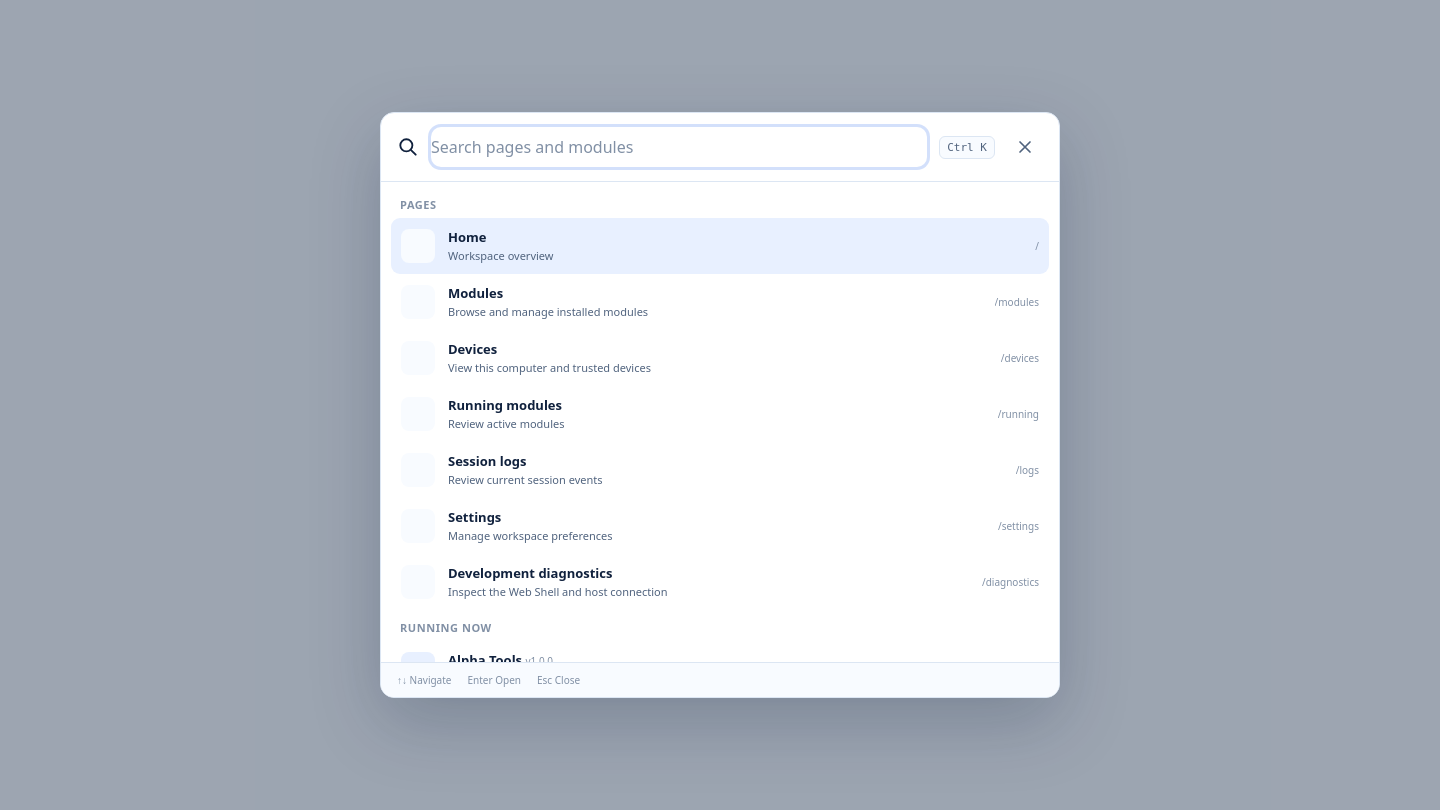
Scenario: QCommandPalette › shows a useful empty state
The width and height of the screenshot is (1440, 810).
Type "nothing-matches-this" into the dropdown with placeholder "Search pages and modules" at (679, 147), box [431, 127, 927, 167]
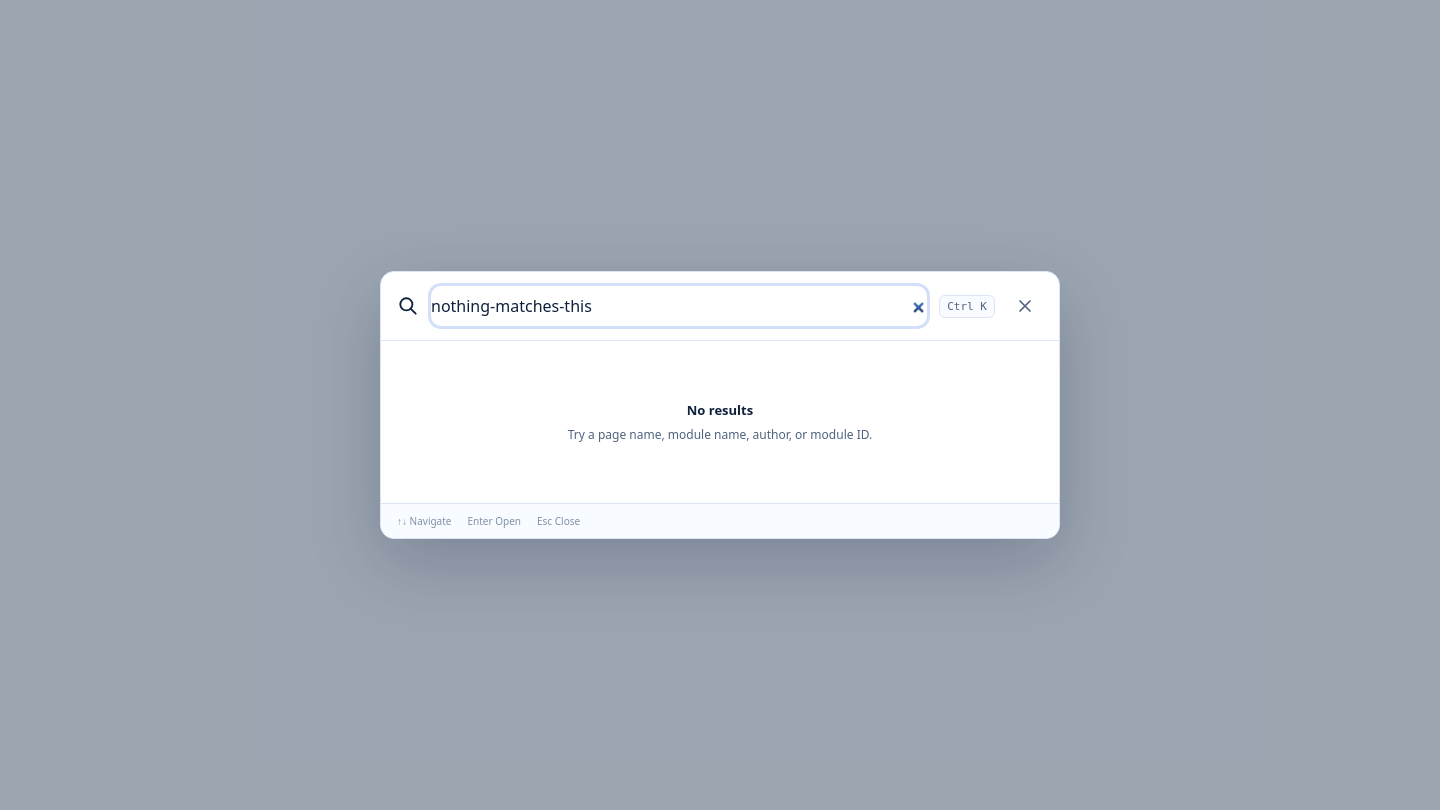
Expected: the text "No results" is shown, [687, 401, 753, 419]
Expected: the text "module ID" is shown, [568, 426, 872, 443]
